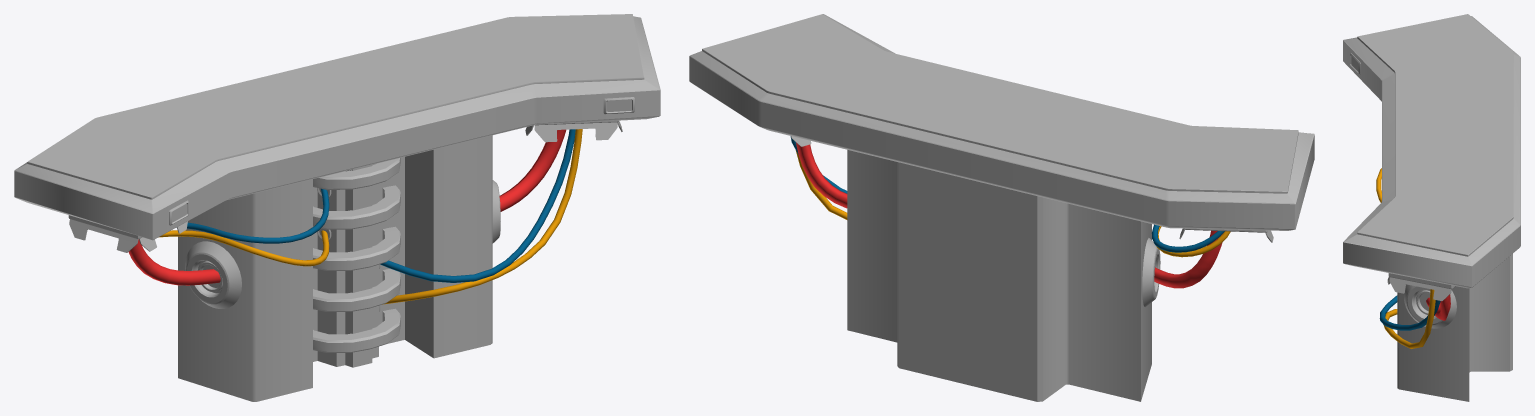
Rendered from Table.fbx.
3 views of the same model, side by side, from view 1: azimuth 30°, elevation 25°; view 2: azimuth 150°, elevation 25°; view 3: azimuth 270°, elevation 25° (orthographic). The views are drawn at different scales.
Parts seen in each view (by area): view 1: Object003; view 2: Object003; view 3: Object003.
Part boxes in pixels (x1,y1,x2,y2): Object003: [14, 14, 660, 401]; Object003: [689, 14, 1314, 401]; Object003: [1343, 14, 1520, 401].
Bounding box in the file's own units: 321 × 124 × 96.52.
